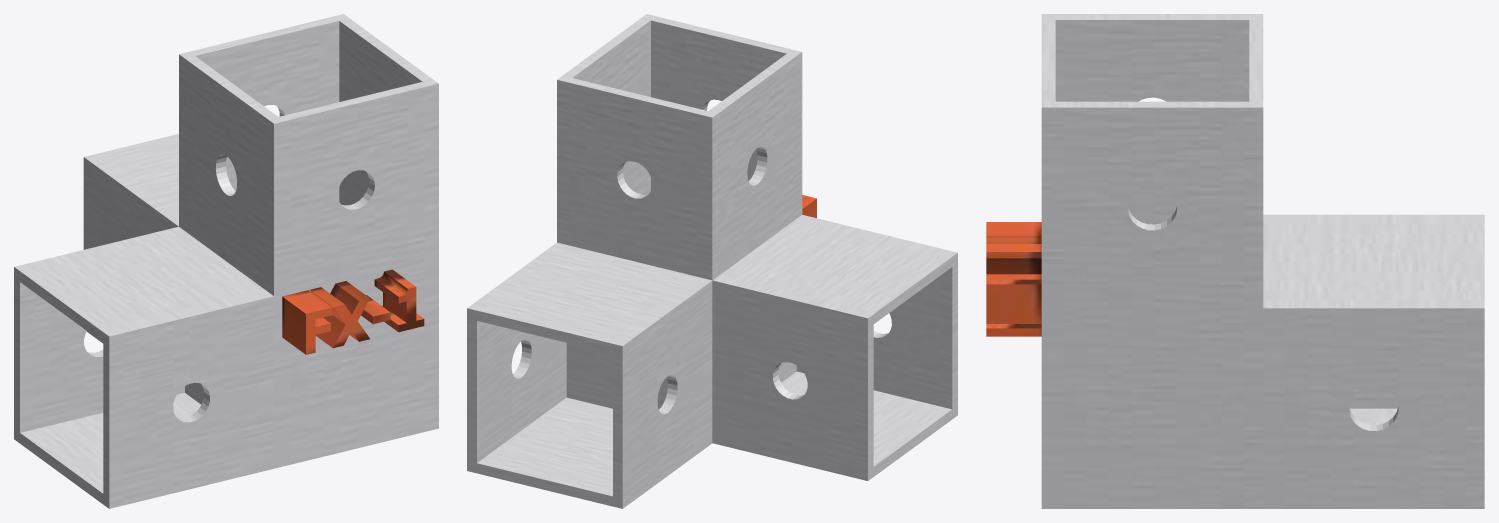
File: FLEX MINI FX 1.glb
3 views of the same model, side by side, from view 1: azimuth 30°, elevation 25°; view 2: azimuth 150°, elevation 25°; view 3: azimuth 270°, elevation 25° (orthographic). The views are drawn at different scales.
Parts seen in each view (by area): view 1: G-Object, G-Object.001, G-Object.002, C-FX-1; view 2: G-Object, G-Object.001, G-Object.002; view 3: G-Object, G-Object.002, C-FX-1.
Boxes of the visible parts, x1,y1,x2,y2 form: G-Object: [179, 14, 438, 468]; G-Object.001: [14, 226, 273, 508]; G-Object.002: [83, 134, 178, 343]; C-FX-1: [282, 269, 424, 354]; G-Object: [557, 14, 802, 409]; G-Object.001: [712, 215, 957, 480]; G-Object.002: [467, 242, 712, 508]; G-Object: [1041, 14, 1263, 508]; G-Object.002: [1263, 214, 1484, 508]; C-FX-1: [986, 222, 1041, 336].
Size of the model in its own units: 0.08 by 0.08 by 0.09.
2 materials, 2 textured.
